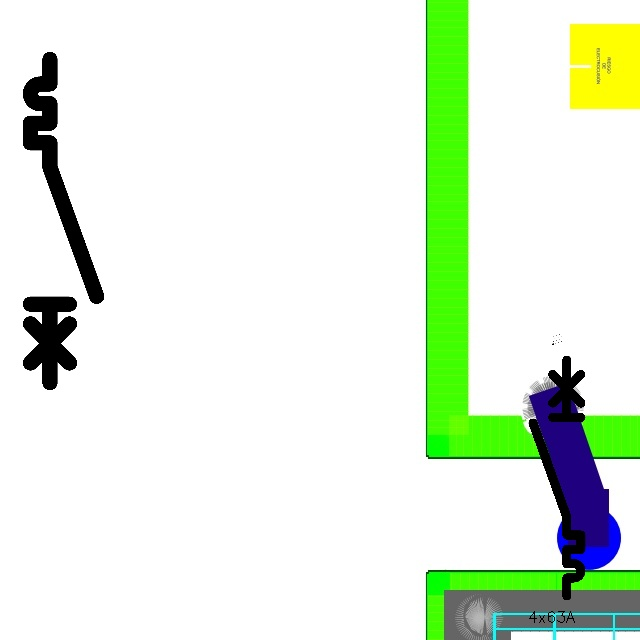interruptor_termomagnetico: (22, 51, 105, 391), (527, 354, 587, 602)
